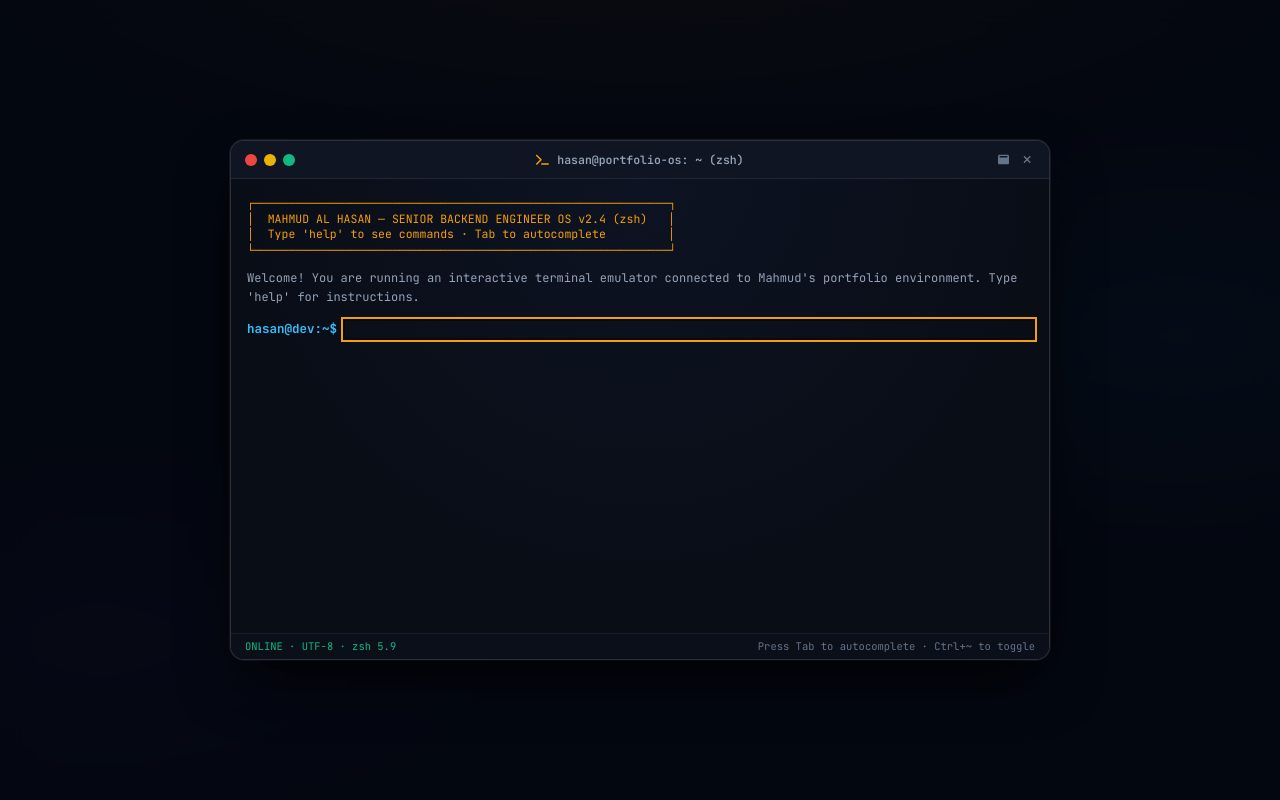
Terminal Component › executes skills command and lists core competencies
The width and height of the screenshot is (1280, 800).
Step 1. Type "skills" into the field named "Terminal command prompt" → x=689, y=329, box [345,321,1033,338]
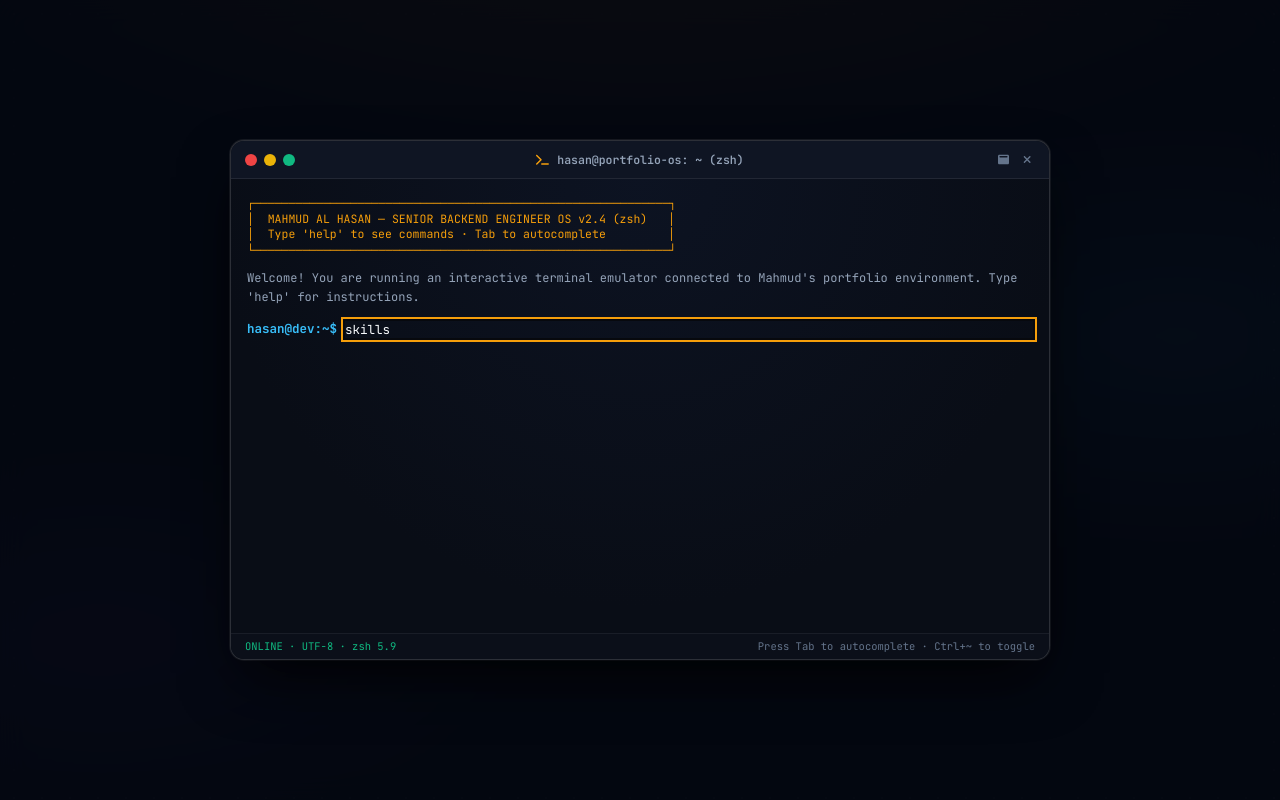
Step 2. Press Enter in the field named "Terminal command prompt", box [345,321,1033,338]
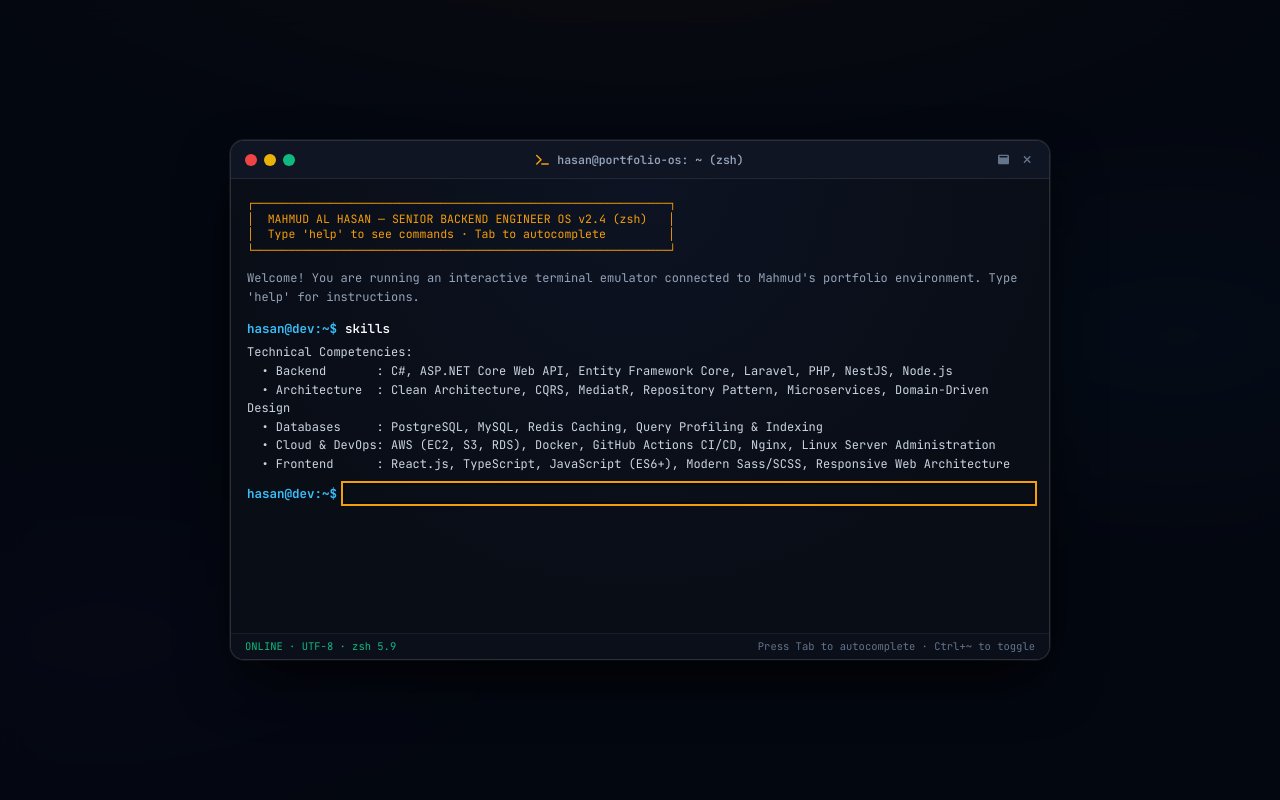
Check: the text "ASP.NET Core" is shown, box [247,344,1010,472]
